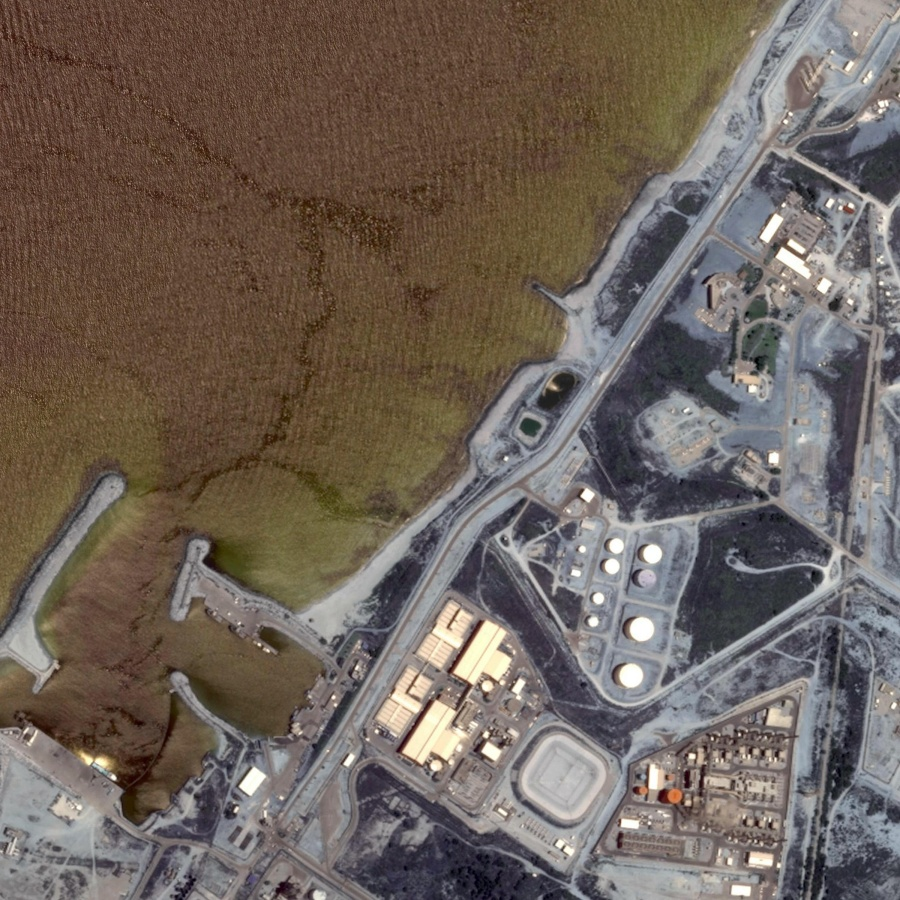PowerPlant: (502, 487, 735, 700)
